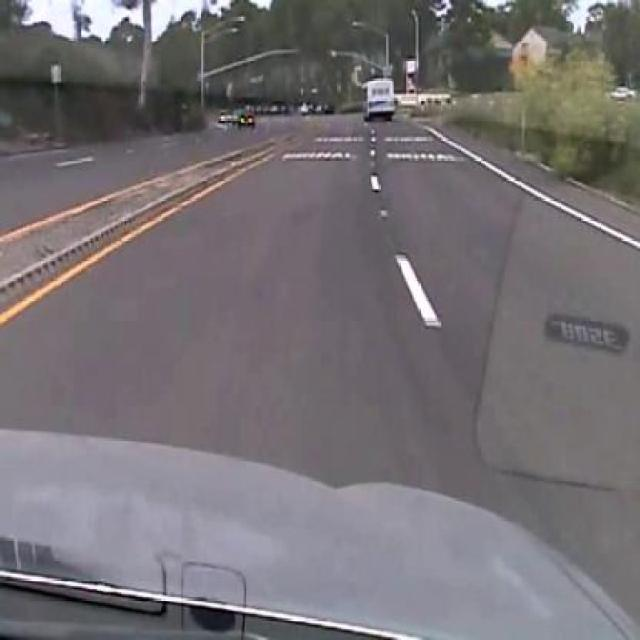signalAhead: (508, 48, 540, 90)
